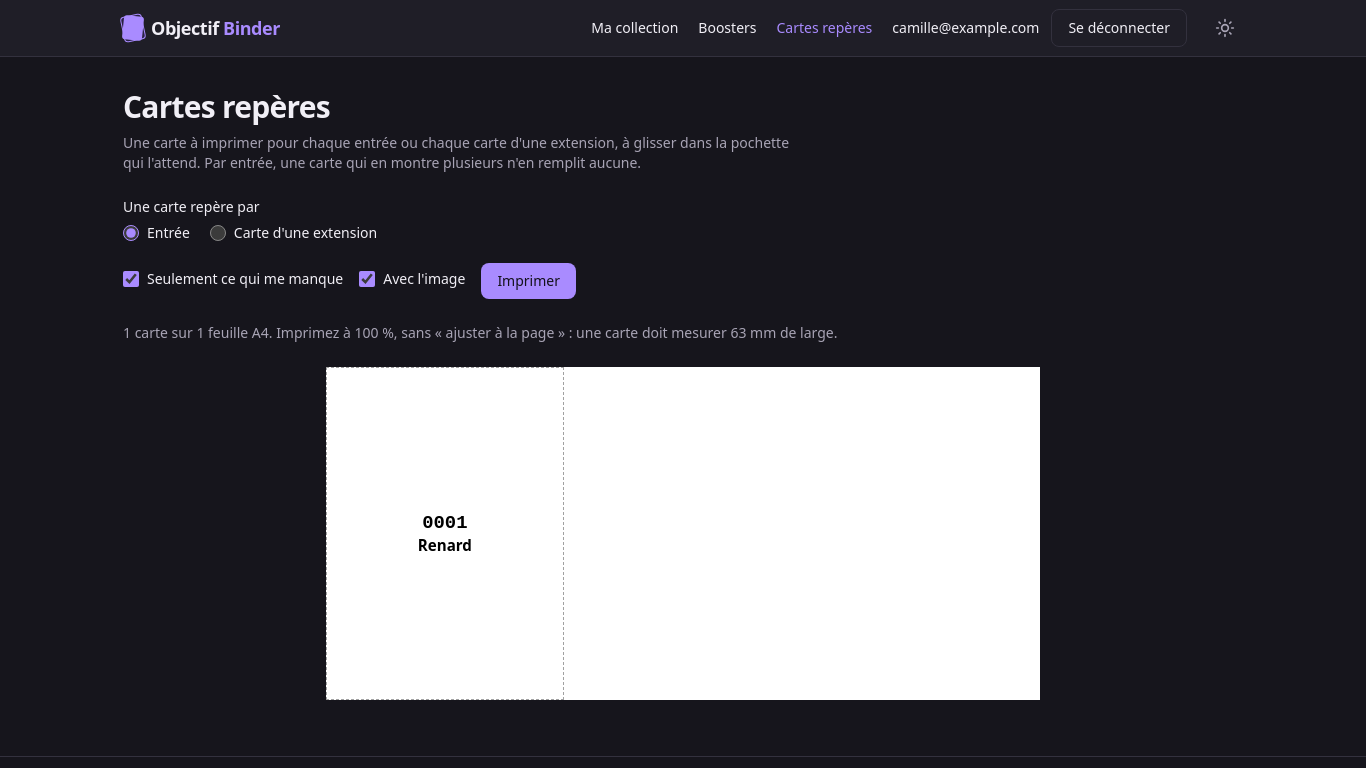
Test: placeholders to print › one per card of a set › asks for a set, then prints the cards of it the user misses
This screenshot has width=1366, height=768.
What coordinates should you click on to do the following:
click the radio button labelled "Carte d'une extension"
I would click on:
 (218, 233)
Its box is [210,225,226,241].
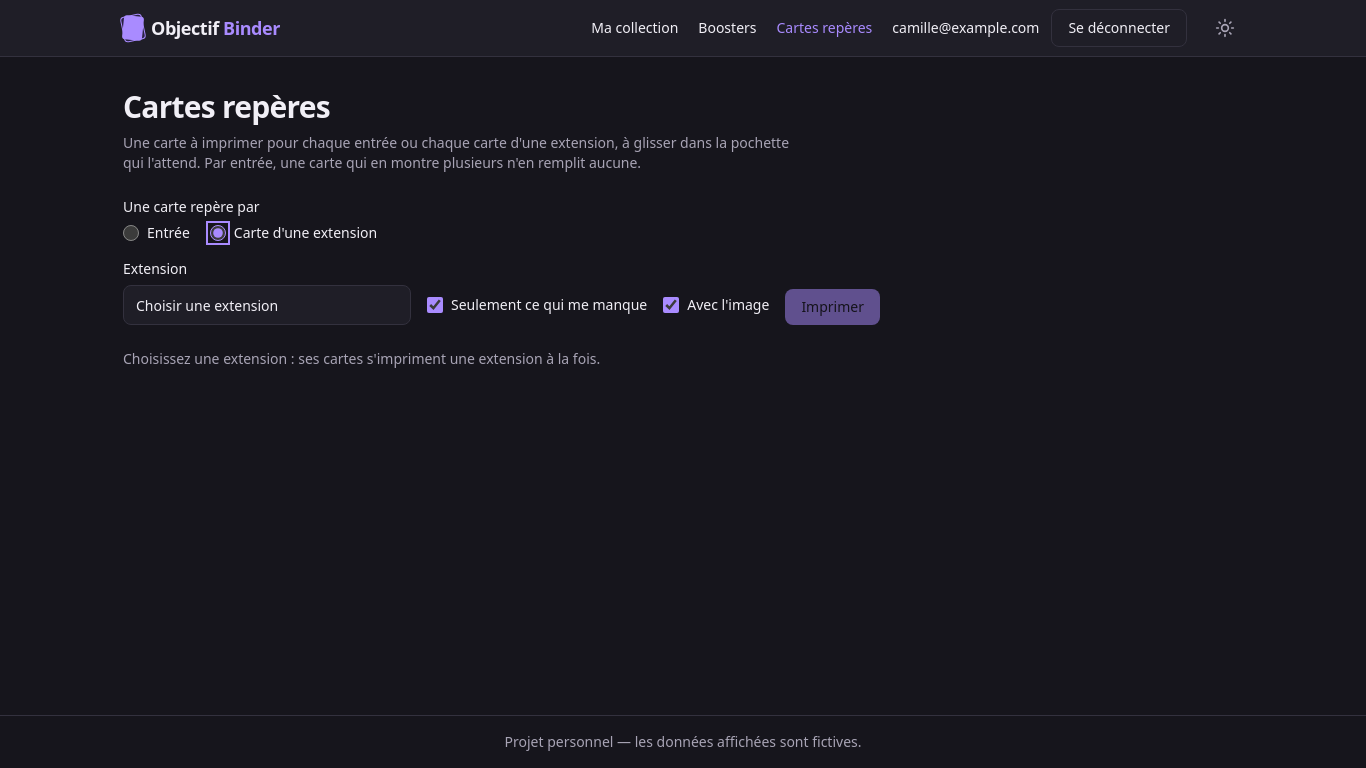
Result: the text "Choisissez une extension" is shown at [123,349,600,368]
What coordinates should you click on to do the following:
click the dropdown labelled "Extension"
I would click on:
 (267, 305)
Its box is [123,285,411,325].
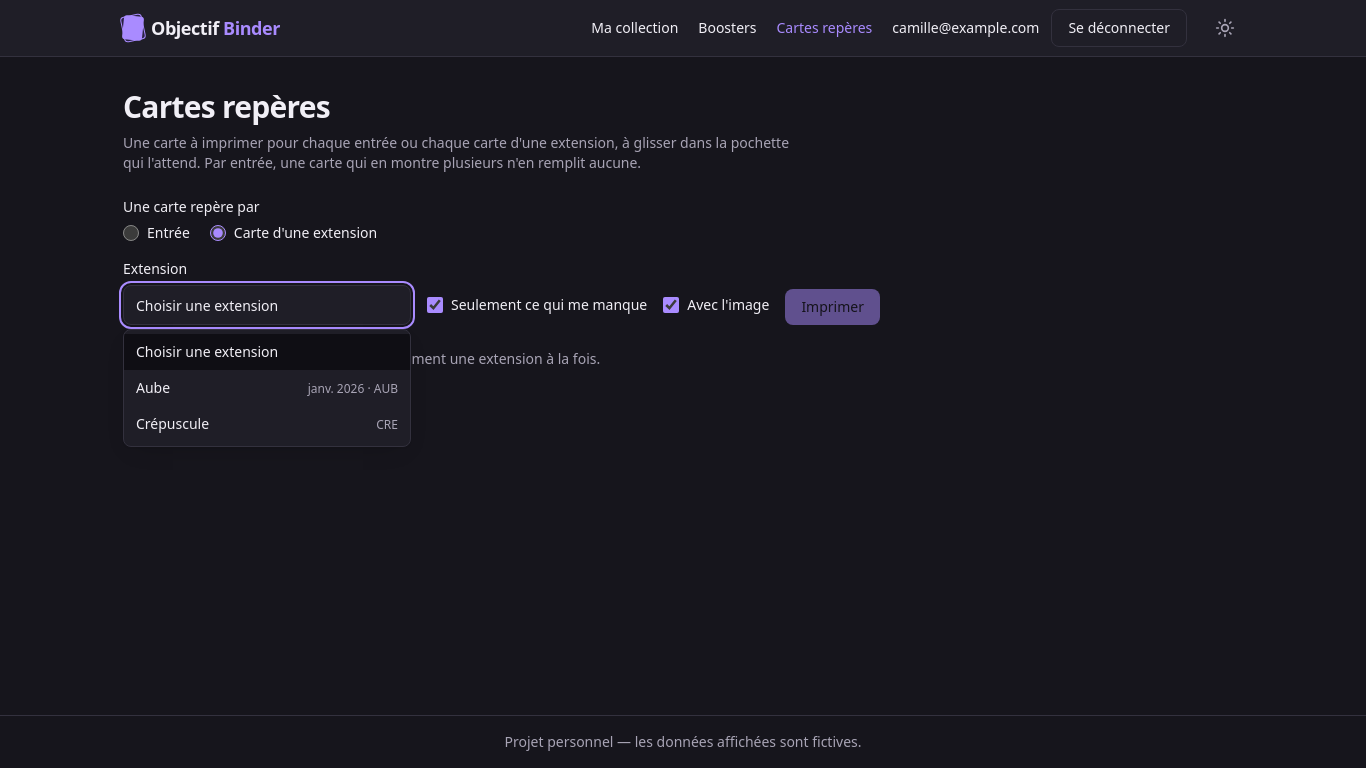
What coordinates should you click on to do the following:
click the option "Aube janv. 2026 · AUB"
I would click on:
 (153, 388)
Its box is [136,378,398,397].
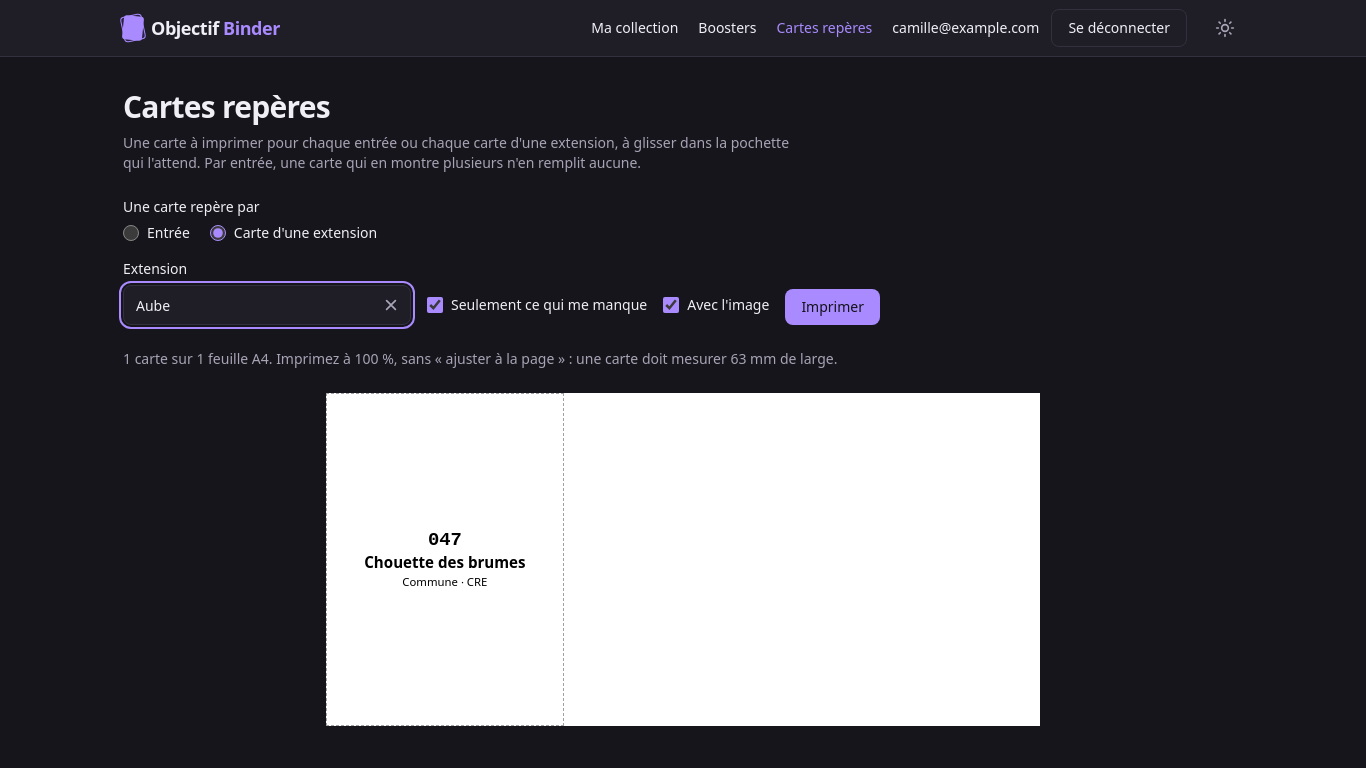
Result: the text "Chouette des brumes" is shown at [364,552,526,572]
Result: the text "047" is shown at [427,528,495,551]
